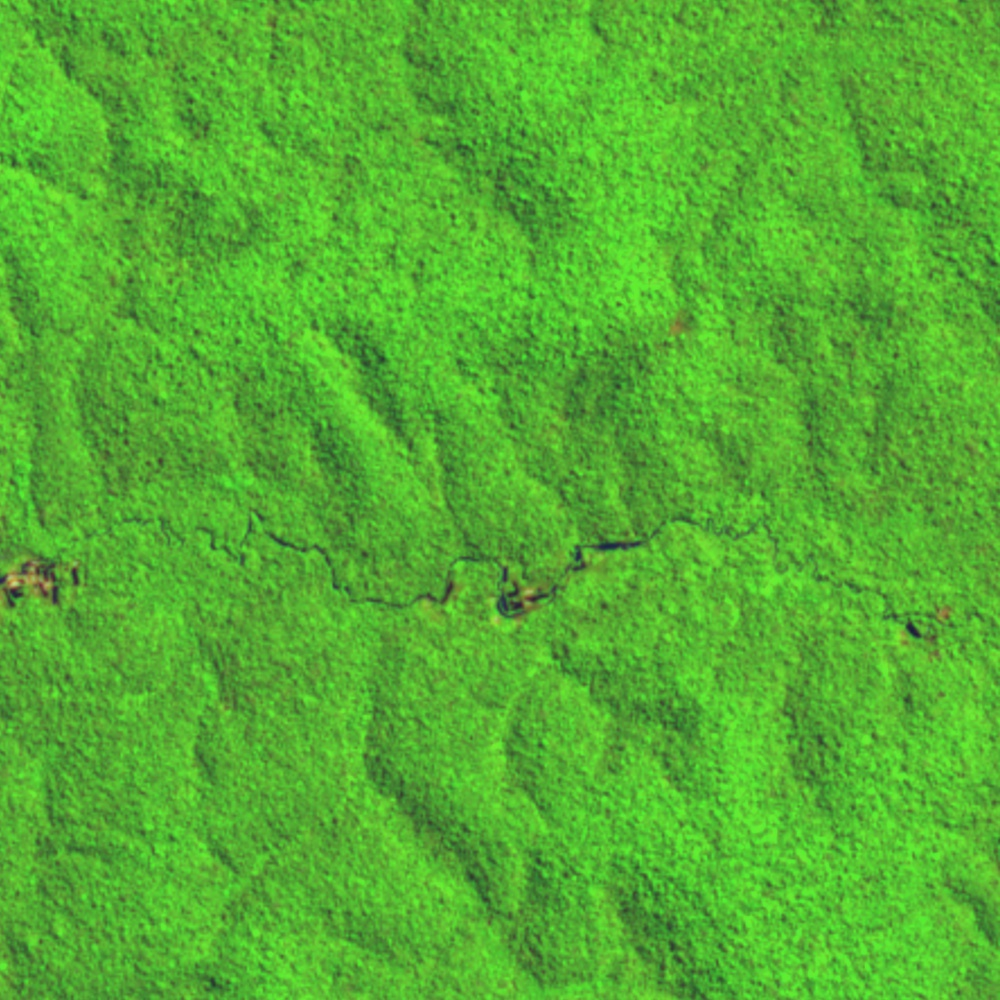illegal: (419, 560, 591, 636), (1, 551, 81, 610), (884, 603, 957, 662)
